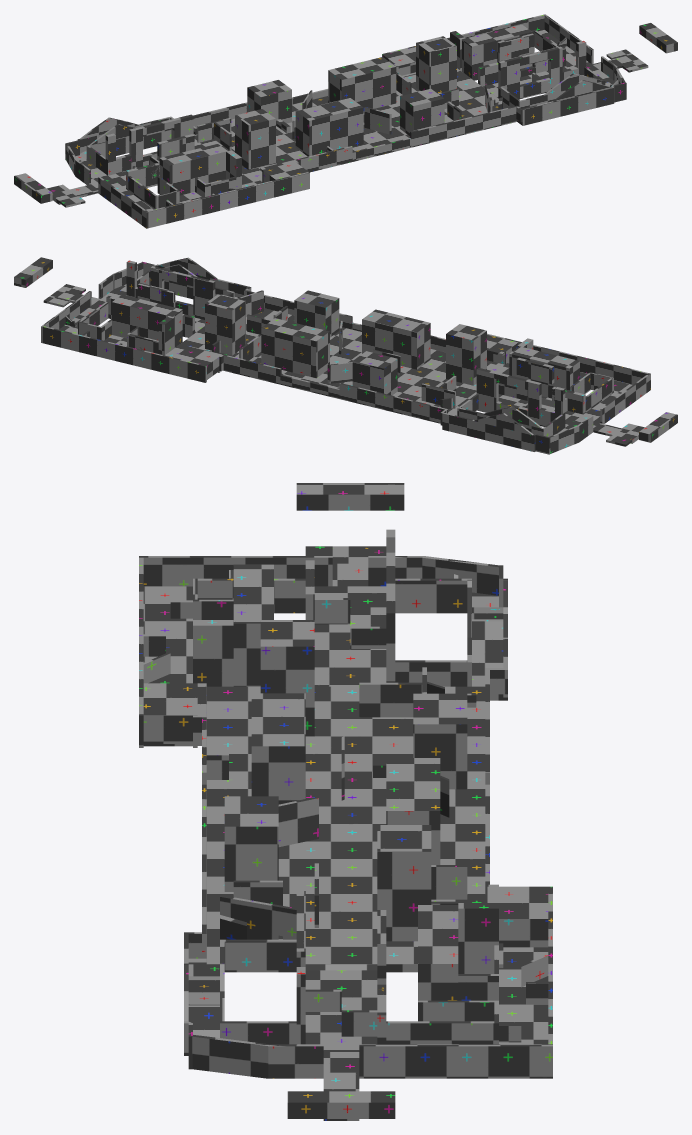
Rendered from level0.glb.
3 renders of one model, top to bottom at view 1: azimuth 30°, elevation 25°; view 2: azimuth 150°, elevation 25°; view 3: azimuth 270°, elevation 25°, orthographic. The views are drawn at different scales.
Parts seen in each view (by area): view 1: map0; view 2: map0; view 3: map0.
Boxes of the visible parts, bbox=[...] form: map0: bbox=[14, 14, 677, 228]; map0: bbox=[14, 257, 677, 454]; map0: bbox=[139, 483, 552, 1120].
Size of the model in its own units: 326 by 25 by 92.
Materials: 1 (1 with a texture image).
